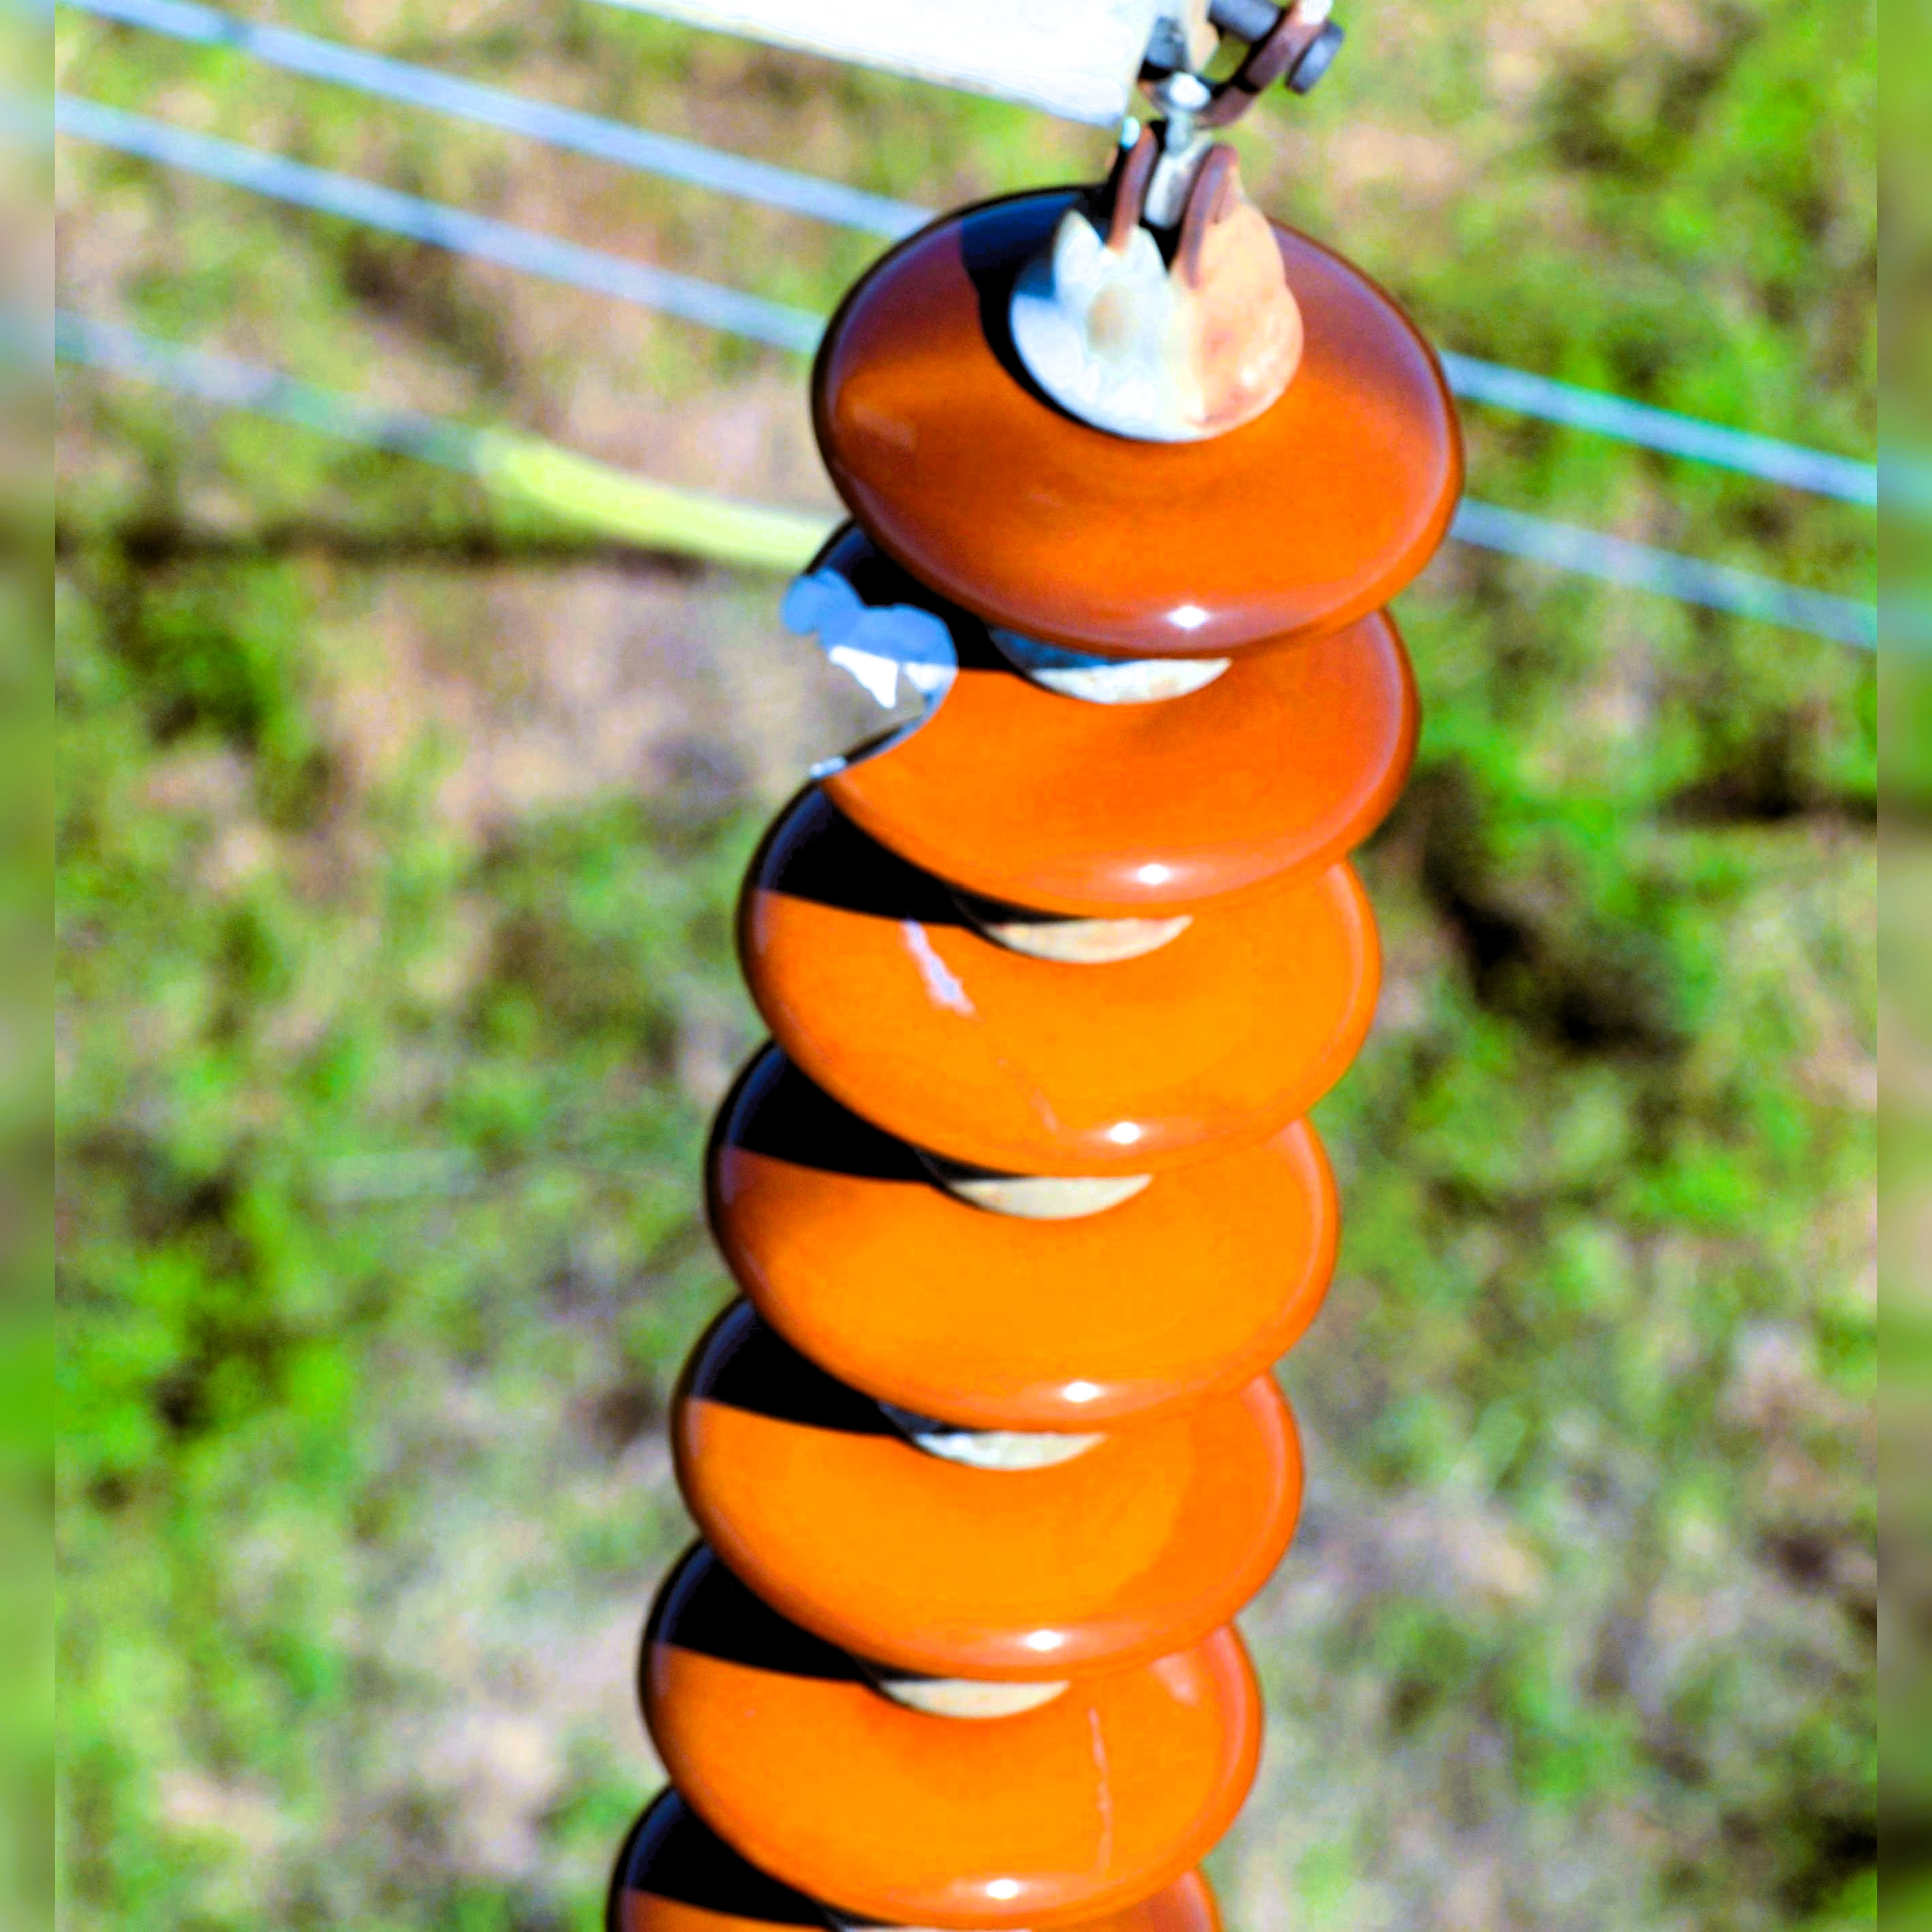insulator breakage: (734, 531, 1437, 931)
